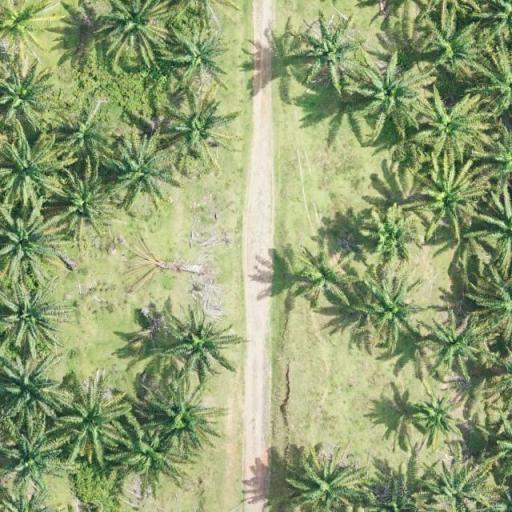Ganoderma: (302, 24, 356, 74), (4, 3, 44, 41)
